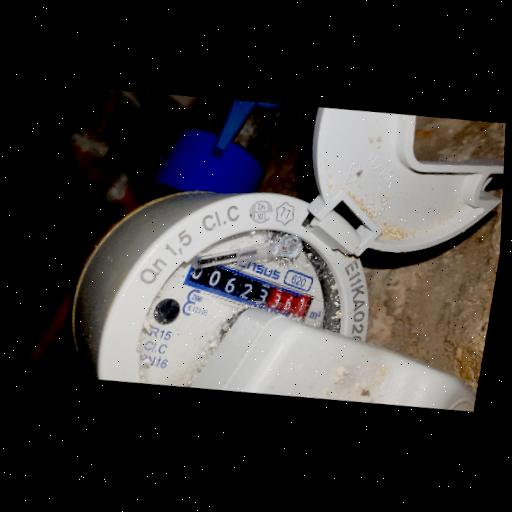0: (200, 263, 228, 294), (187, 261, 211, 288)
1: (290, 293, 314, 322)
2: (234, 275, 260, 303)
3: (250, 281, 275, 309), (265, 286, 288, 312)
6: (218, 268, 245, 299), (278, 291, 300, 316)
border_water_meter_number: (179, 249, 321, 327)
